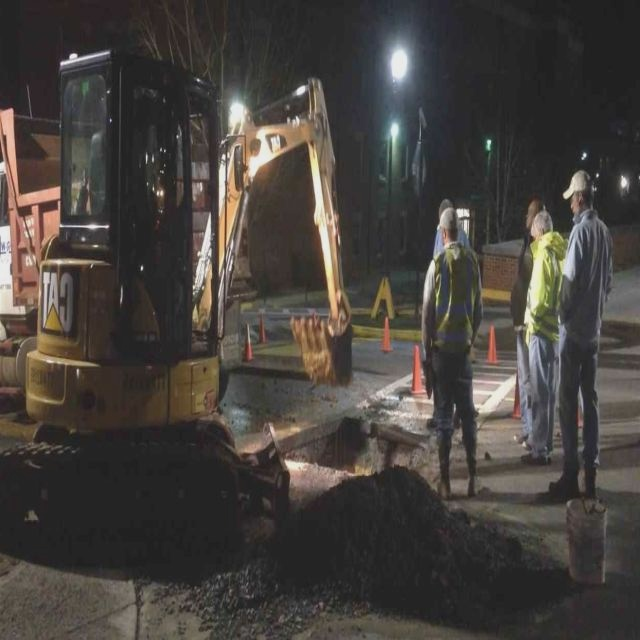Con_Chaleco: (428, 244, 481, 359)
Sin_Casco_Mascarrilla: (562, 170, 590, 220), (531, 208, 552, 248)
